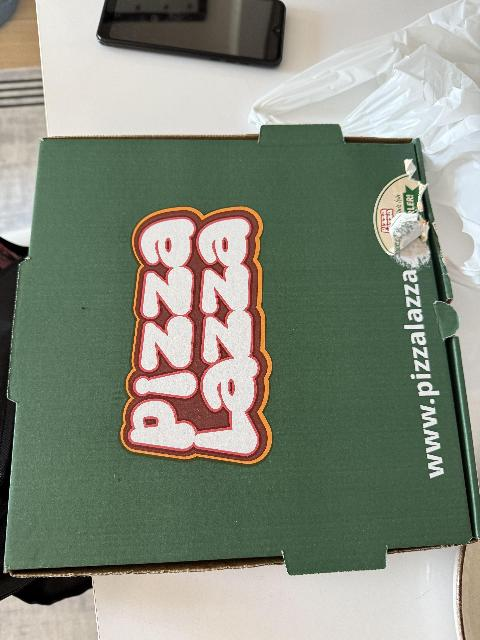Kagit: (0, 119, 480, 578)
